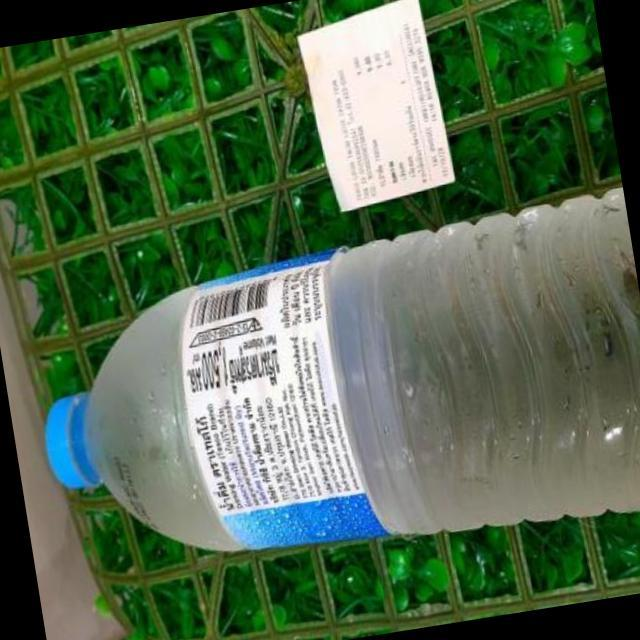good: (16, 188, 640, 608)
